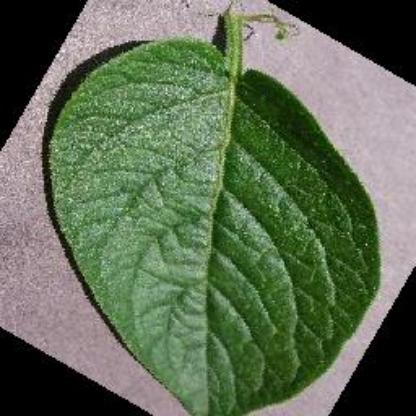Healthy-plant: (16, 34, 382, 408)
